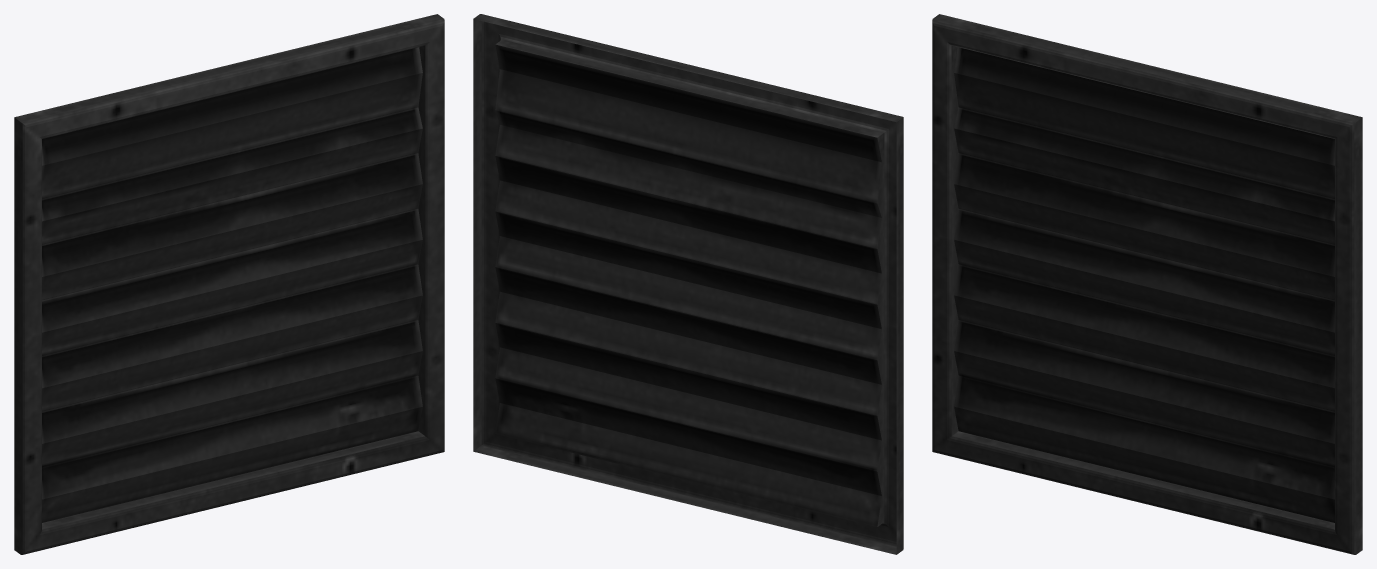
File: vent_1.obj
3 renders of one model, left to right at view 1: azimuth 30°, elevation 25°; view 2: azimuth 150°, elevation 25°; view 3: azimuth 330°, elevation 25°, orthographic.
Parts seen in each view (by area): view 1: vent_1; view 2: vent_1; view 3: vent_1.
Boxes of the visible parts, x1,y1,x2,y2 form: vent_1: (14,14,444,554); vent_1: (473,14,903,554); vent_1: (932,14,1362,554).
Bounding box in the file's own units: 0.8192 × 0.8 × 0.03.
